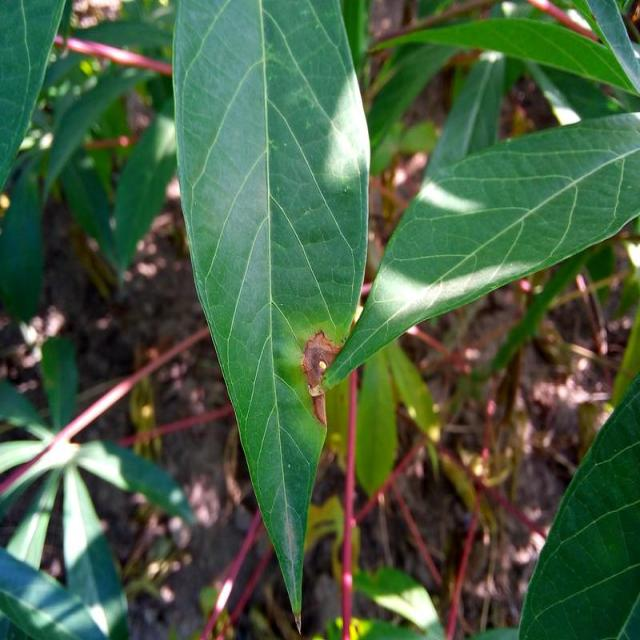cassava leaf: (169, 0, 372, 631), (320, 109, 638, 392), (517, 370, 638, 638)
